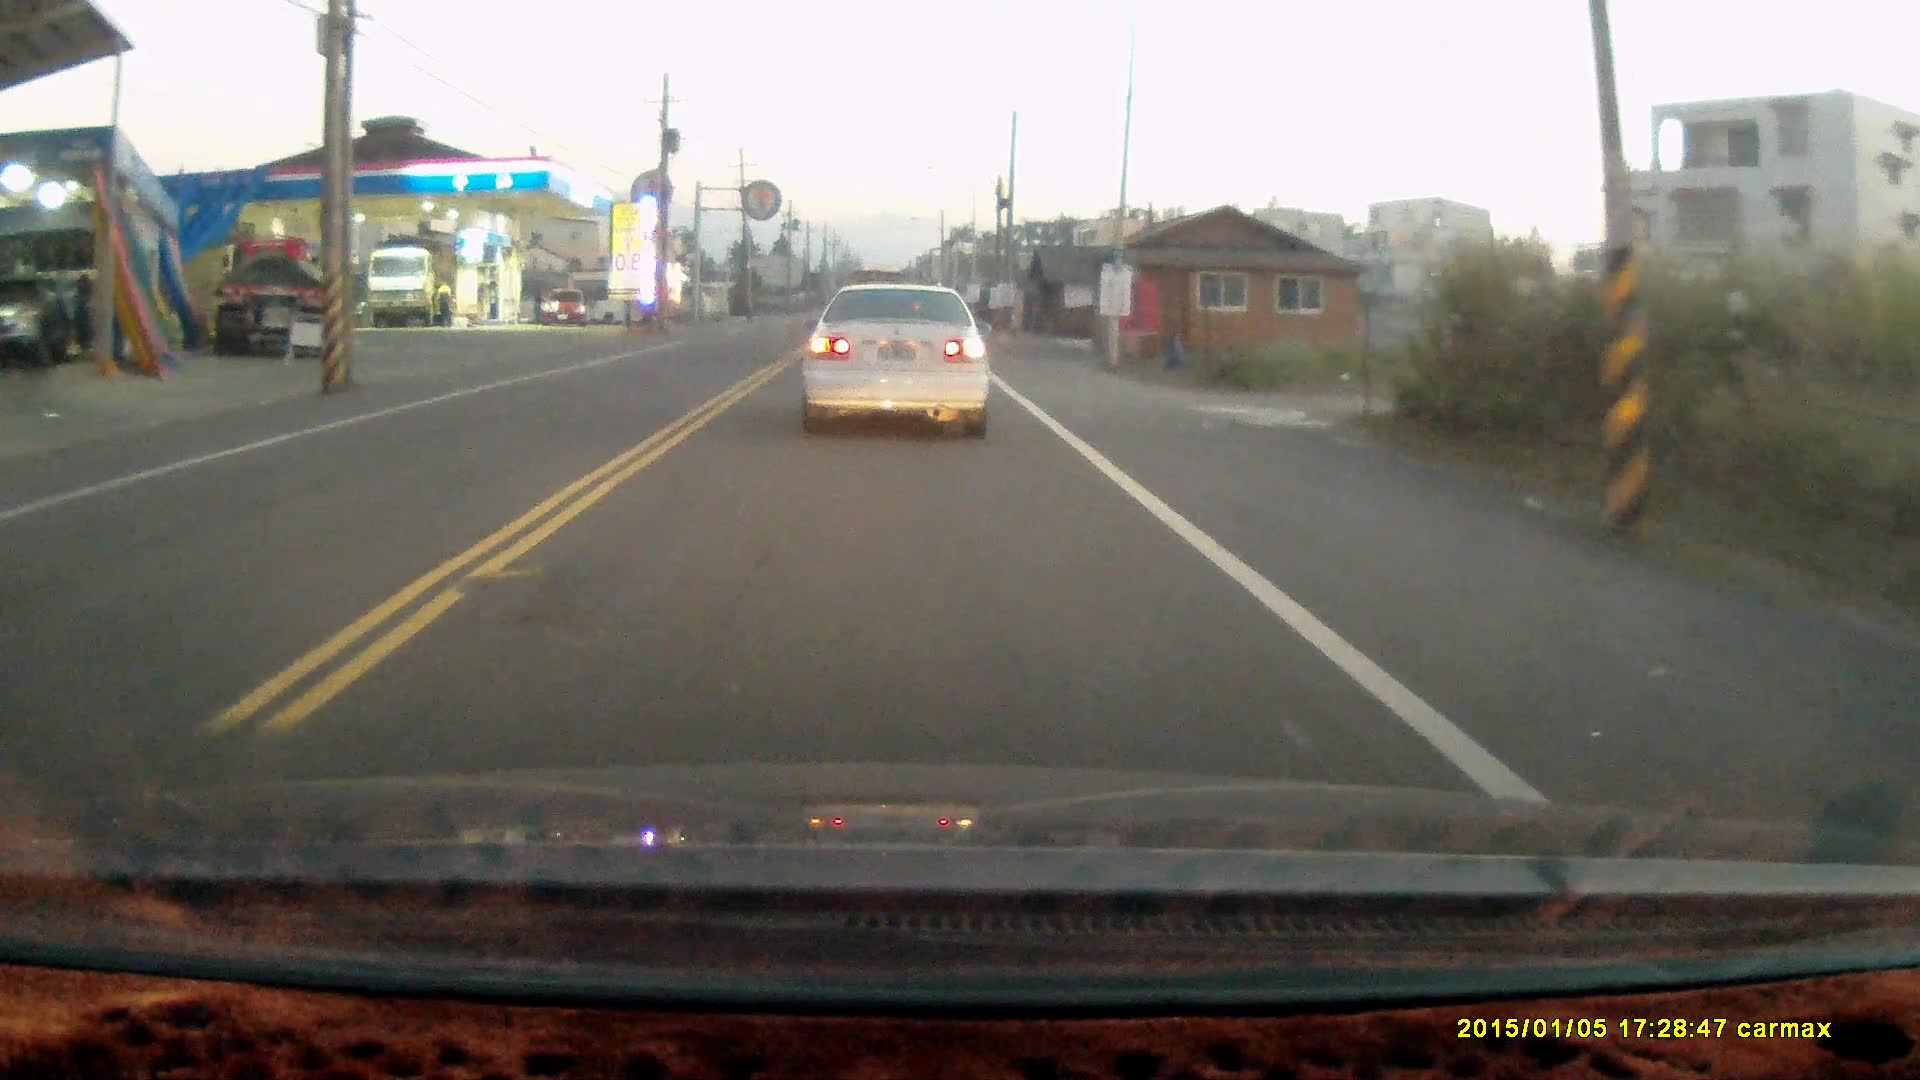pedestrian: (432, 276, 454, 326)
vehicle: (795, 278, 995, 447), (209, 239, 320, 358), (367, 249, 449, 335), (542, 289, 586, 329)
